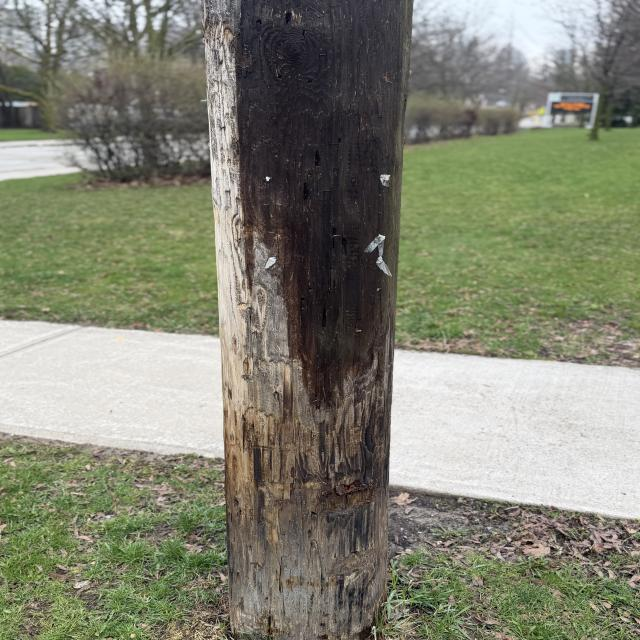Electrical Pole: (199, 0, 420, 640)
